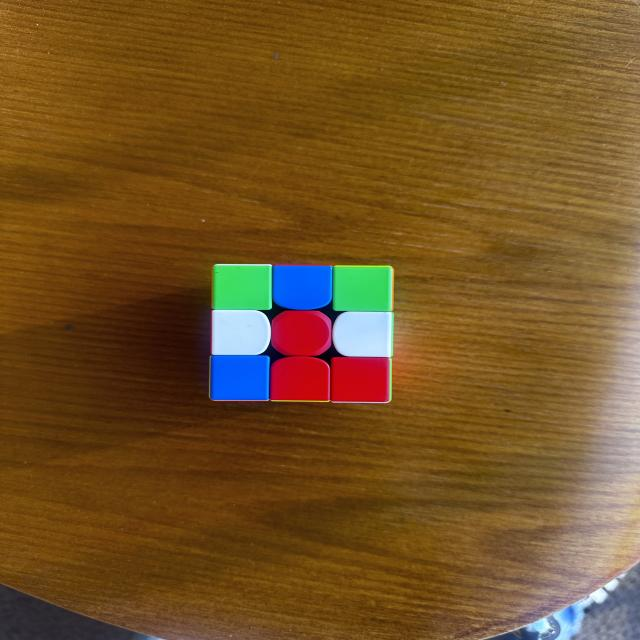sticker: (328, 356, 393, 406), (329, 311, 394, 360), (268, 355, 332, 404), (270, 310, 334, 358), (270, 264, 334, 312), (210, 309, 272, 358), (332, 266, 394, 313), (212, 265, 274, 312), (210, 356, 271, 402)
